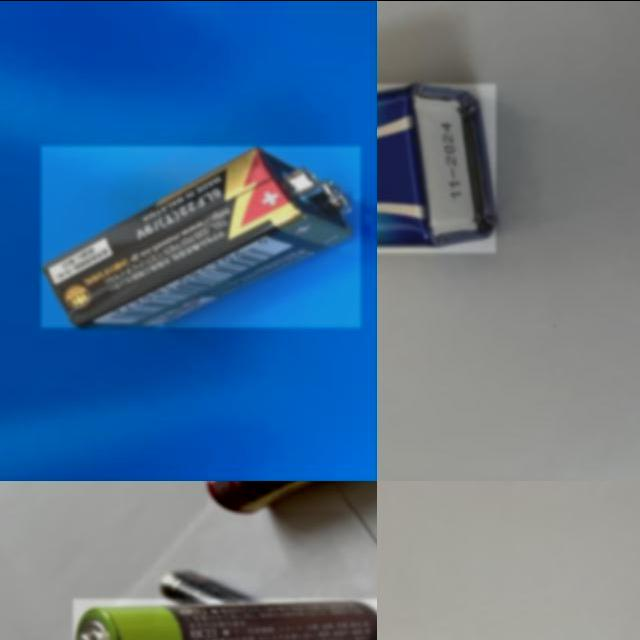9V: (41, 144, 361, 327), (377, 83, 496, 252)
